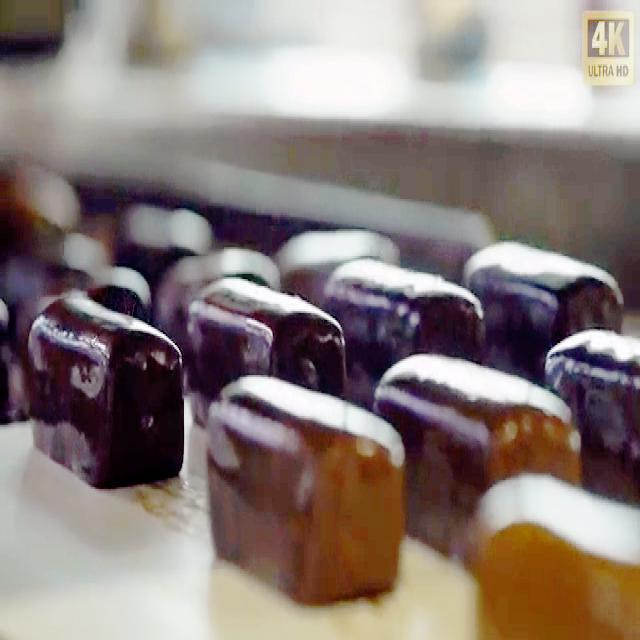Choco: (204, 368, 407, 604), (25, 284, 186, 489), (373, 347, 583, 496), (466, 471, 638, 635), (463, 226, 624, 387), (324, 254, 491, 403), (186, 272, 347, 393), (542, 310, 640, 472)
